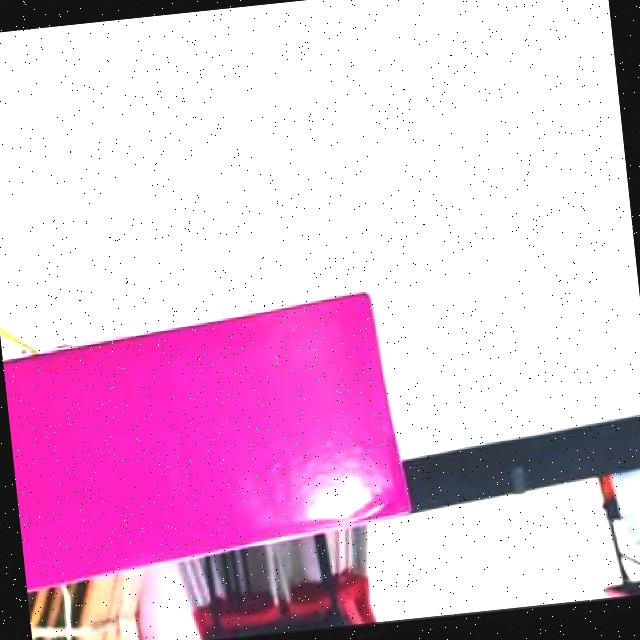xparking: (1, 306, 400, 556)
